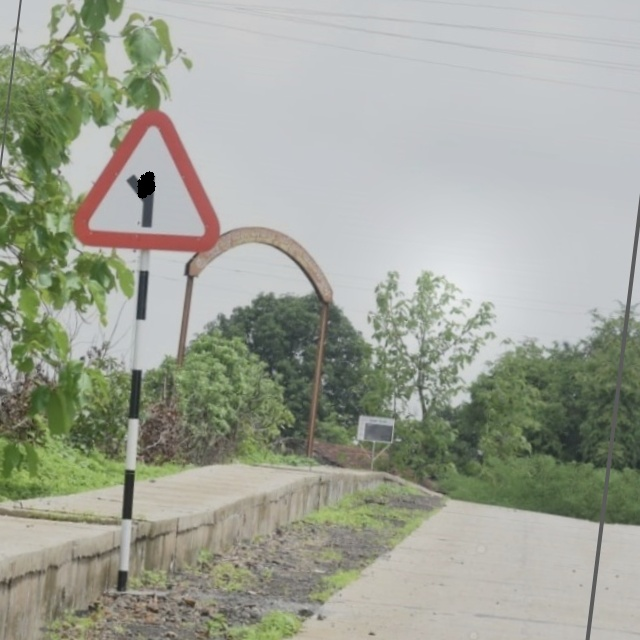Y_Intersection: (83, 106, 231, 253)
